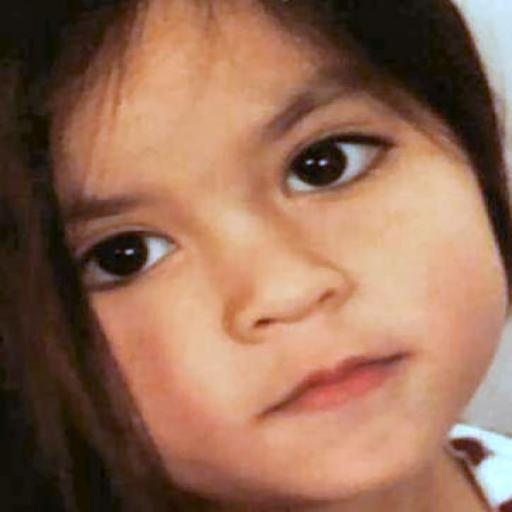Autism: (10, 3, 512, 510)
